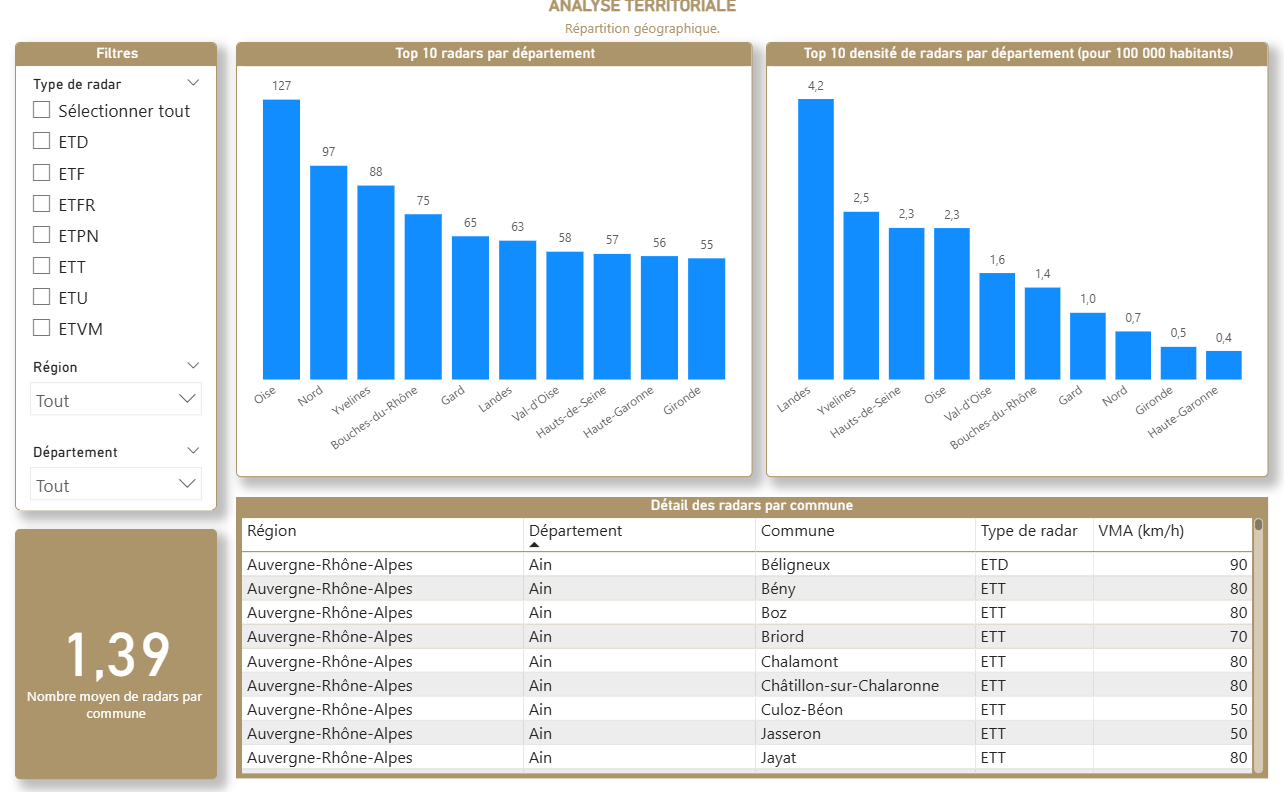

Layout of this report page (visuals, bound fields, positions):
{"tool":"powerbi","page":{"name":"Analyse territoriale","canvas":[1283,800],"ordinal":1},"visuals":[{"type":"shape","title":"Filtres","box":[17.1,50,201.4,465.7],"z":0},{"type":"slicer","fields":{"Values":["vue_radars_detaillee.type_radar"]},"box":[21.4,78.6,191.4,281.4],"z":1000},{"type":"columnChart","title":"Top 10 radars par département","fields":{"Category":["vue_radars_detaillee.nom_departement"],"Y":["vue_radars_detaillee.Nombre de radars"]},"box":[237.1,50,514.3,432.9],"z":2000},{"type":"slicer","fields":{"Values":["vue_radars_detaillee.nom_region"]},"box":[21.4,360.6,191.4,71.4],"z":3000},{"type":"slicer","fields":{"Values":["vue_radars_detaillee.nom_departement"]},"box":[21.4,444.9,191.4,71.4],"z":4000},{"type":"tableEx","title":"Détail des radars par commune","fields":{"Values":["vue_radars_detaillee.nom_region","vue_radars_detaillee.nom_departement","vue_radars_detaillee.nom_commune","vue_radars_detaillee.type_radar","vue_radars_detaillee.vma"]},"box":[237.1,502.9,1027.1,280],"z":5000},{"type":"card","title":"Nombre total de radars fixes","fields":{"Values":["vue_radars_detaillee.Nombre moyen de radars par commune"]},"box":[17.1,534.3,201.4,248.6],"z":6000},{"type":"shape","title":"ANALYSE TERRITORIALE","box":[0,3,1282.6,52.7],"z":7000},{"type":"columnChart","title":"Top 10 densité de radars par département (pour 100 000 habitants)","fields":{"Category":["vue_radars_detaillee.nom_departement"],"Y":["vue_radars_detaillee.Radars pour 100 000 habitants (analyse territoriale)"]},"box":[764.3,50,500,432.9],"z":9000}]}

Visuals, with their boxes in screenshot pixels (x1, y1, x2, y2), scaled from the page's 1283x800 canvas onto the 1284x792 screenshot:
"Filtres" shape: select_region(17, 50, 219, 511)
slicer - vue_radars_detaillee.type_radar: select_region(21, 78, 213, 356)
"Top 10 radars par département" columnChart: select_region(237, 50, 752, 478)
slicer - vue_radars_detaillee.nom_region: select_region(21, 357, 213, 428)
slicer - vue_radars_detaillee.nom_departement: select_region(21, 440, 213, 511)
"Détail des radars par commune" tableEx: select_region(237, 498, 1265, 775)
"Nombre total de radars fixes" card: select_region(17, 529, 219, 775)
"ANALYSE TERRITORIALE" shape: select_region(0, 3, 1283, 55)
"Top 10 densité de radars par département (pour 100 000 habitants)" columnChart: select_region(765, 50, 1265, 478)
